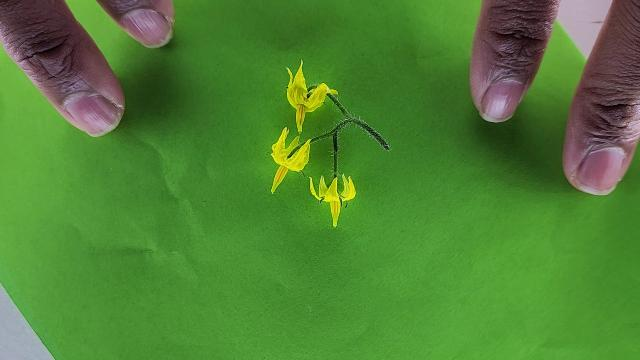Anthesis: (285, 57, 334, 134), (305, 168, 361, 230), (268, 125, 312, 194)
